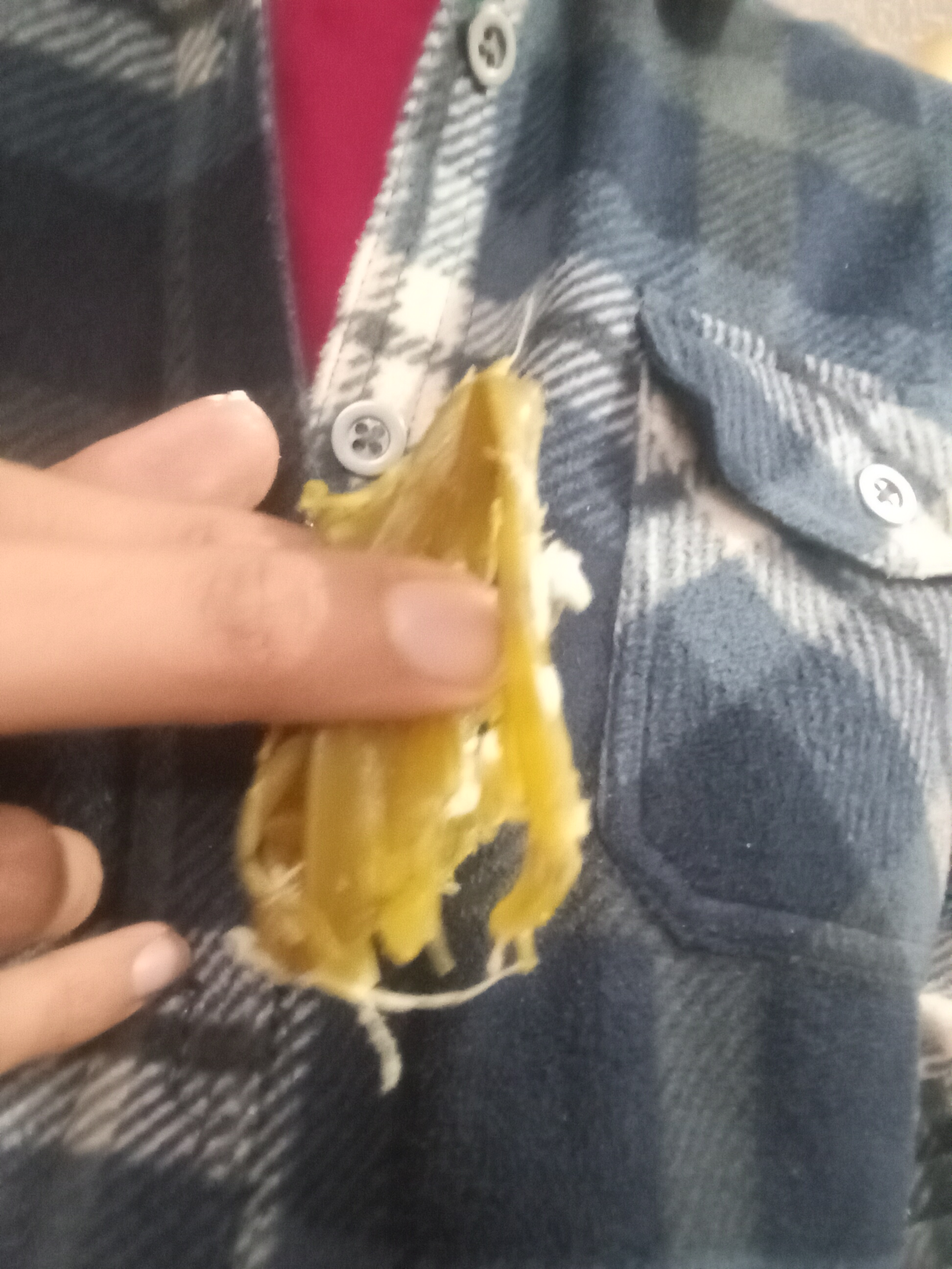Organico: (235, 365, 591, 981)
